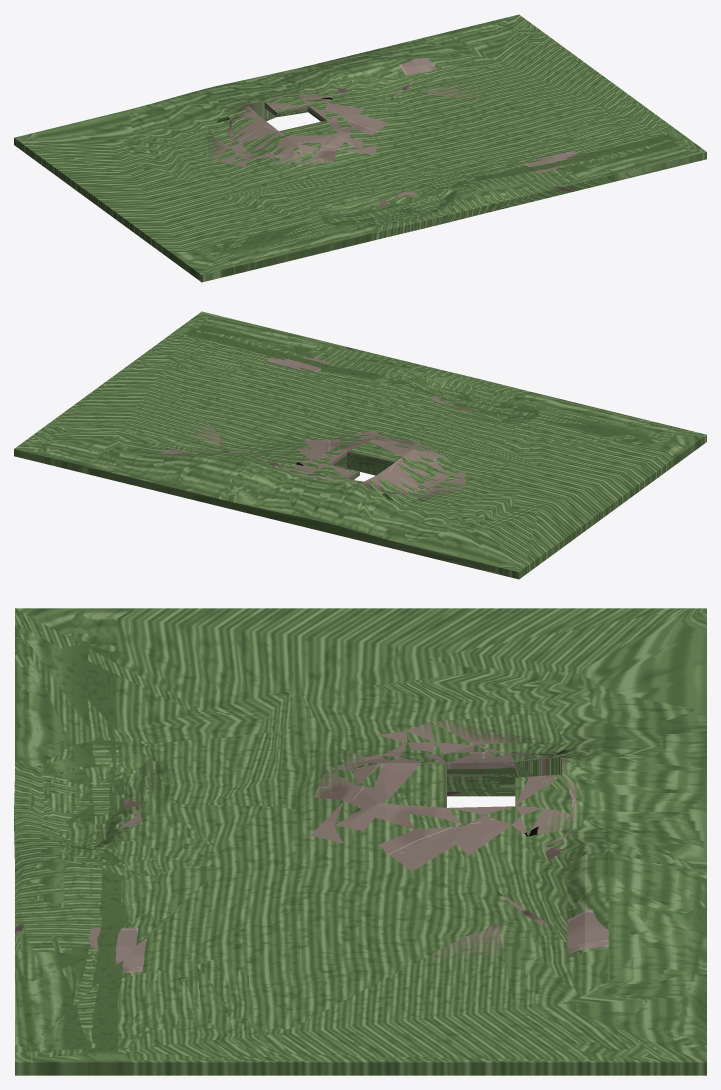
The model's file is GRASS.glb.
3 renders of one model, top to bottom at view 1: azimuth 30°, elevation 25°; view 2: azimuth 150°, elevation 25°; view 3: azimuth 270°, elevation 25°, orthographic. The views are drawn at different scales.
Parts seen in each view (by area): view 1: grass; view 2: grass; view 3: grass.
Boxes of the visible parts, x1,y1,x2,y2 form: grass: (14,14,706,282); grass: (14,311,706,579); grass: (14,608,706,1075).
Size of the model in its own units: 136 by 5.53 by 87.6.
Materials: 1 (1 with a texture image).
